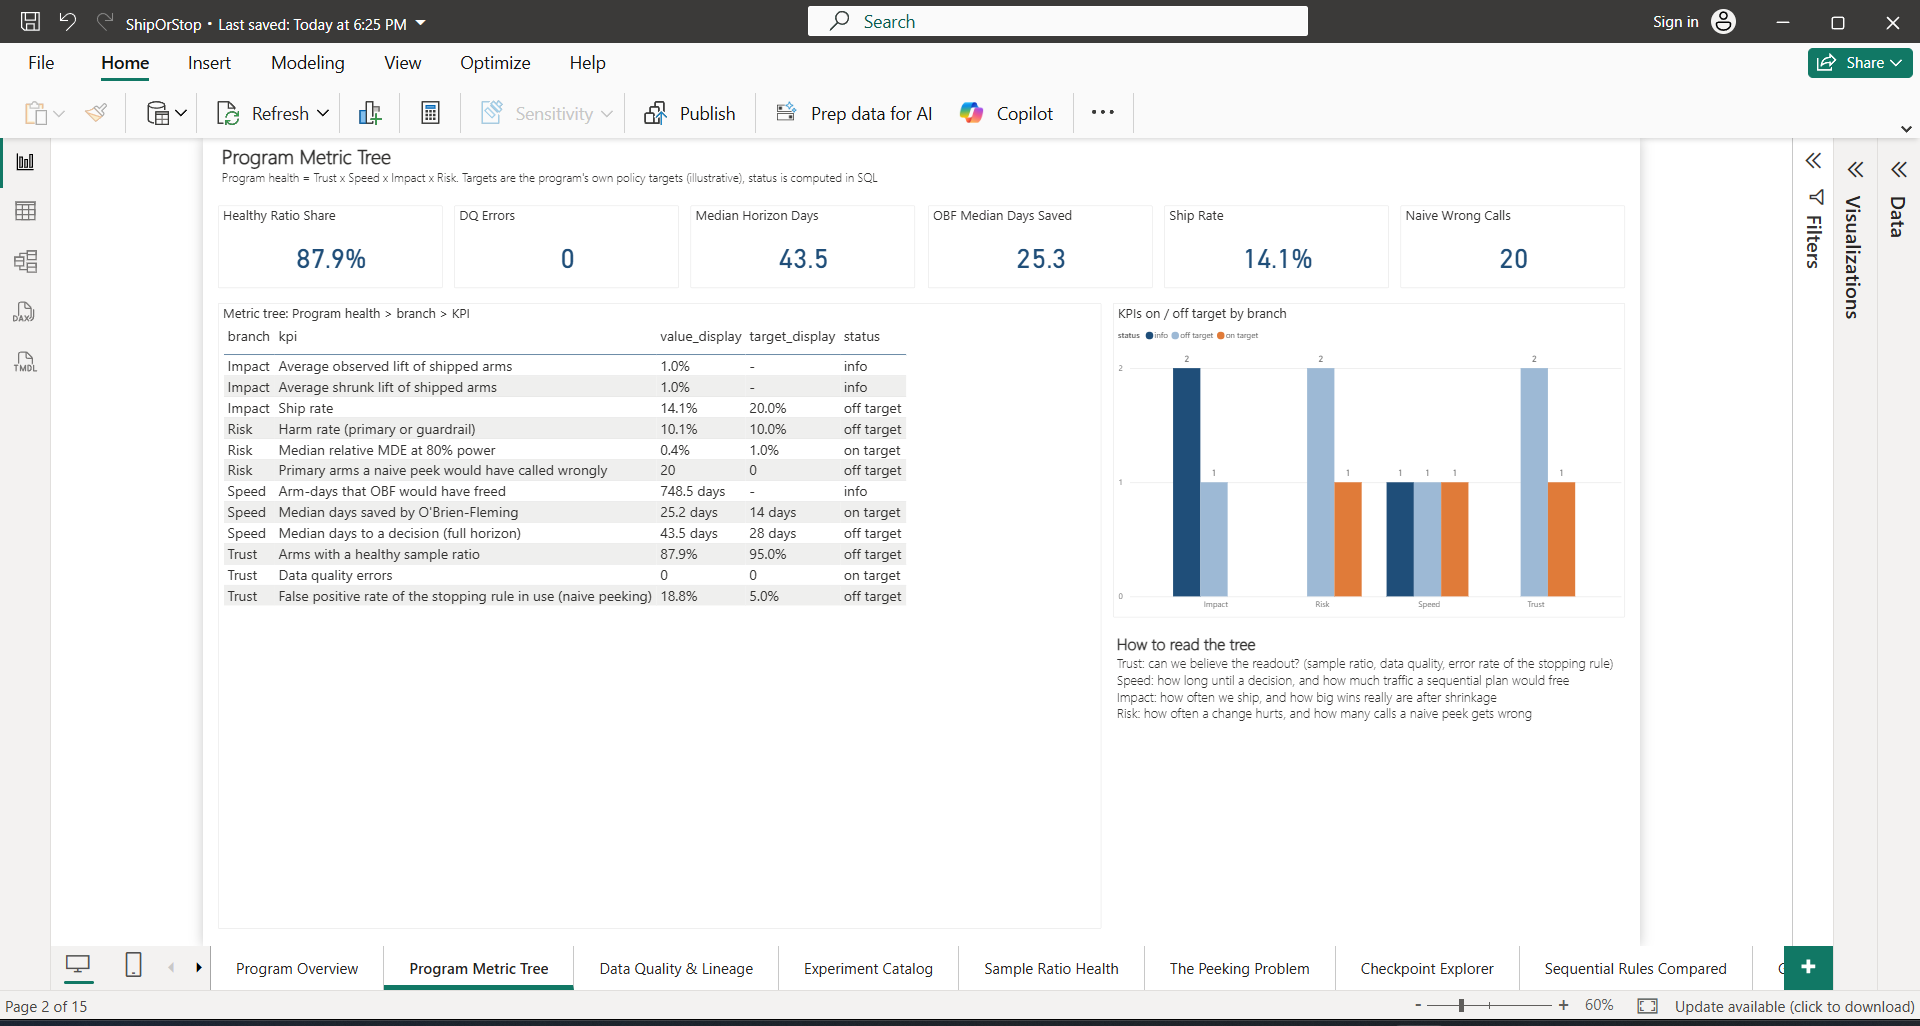

The page's visual inventory and layout, read from the dashboard file:
{"tool":"powerbi","page":{"name":"Program Metric Tree","canvas":[1920,1080],"ordinal":1},"visuals":[{"type":"textbox","box":[20,2,1880,86],"z":0},{"type":"textbox","box":[1216,656,684,400],"z":501},{"type":"card","title":"Healthy Ratio Share","fields":{"Values":["_Measures.Healthy Ratio Share"]},"box":[20,90,300,110],"z":1000},{"type":"card","title":"DQ Errors","fields":{"Values":["_Measures.DQ Errors"]},"box":[336,90,300,110],"z":2000},{"type":"card","title":"Median Horizon Days","fields":{"Values":["_Measures.Median Horizon Days"]},"box":[652,90,300,110],"z":3000},{"type":"card","title":"OBF Median Days Saved","fields":{"Values":["_Measures.OBF Median Days Saved"]},"box":[968,90,300,110],"z":4000},{"type":"card","title":"Ship Rate","fields":{"Values":["_Measures.Ship Rate"]},"box":[1284,90,300,110],"z":5000},{"type":"card","title":"Naive Wrong Calls","fields":{"Values":["_Measures.Naive Wrong Calls"]},"box":[1600,90,300,110],"z":6000},{"type":"tableEx","title":"Metric tree: Program health > branch > KPI","fields":{"Values":["metric_tree.branch","metric_tree.kpi","metric_tree.value_display","metric_tree.target_display","metric_tree.status"]},"box":[20,220,1180,836],"z":7000},{"type":"clusteredColumnChart","title":"KPIs on / off target by branch","fields":{"Category":["metric_tree.branch"],"Series":["metric_tree.status"],"Y":["_Measures.KPI Count"]},"box":[1216,220,684,420],"z":8000}]}

Visuals, with their boxes on the page's 1920x1080 design canvas (x1, y1, x2, y2). These are canvas units, not pixel positions in the 1920x1026 screenshot, which may show the page scaled, cropped or inside an application window:
textbox: region(20, 2, 1900, 88)
textbox: region(1216, 656, 1900, 1056)
"Healthy Ratio Share" card: region(20, 90, 320, 200)
"DQ Errors" card: region(336, 90, 636, 200)
"Median Horizon Days" card: region(652, 90, 952, 200)
"OBF Median Days Saved" card: region(968, 90, 1268, 200)
"Ship Rate" card: region(1284, 90, 1584, 200)
"Naive Wrong Calls" card: region(1600, 90, 1900, 200)
"Metric tree: Program health > branch > KPI" tableEx: region(20, 220, 1200, 1056)
"KPIs on / off target by branch" clusteredColumnChart: region(1216, 220, 1900, 640)
